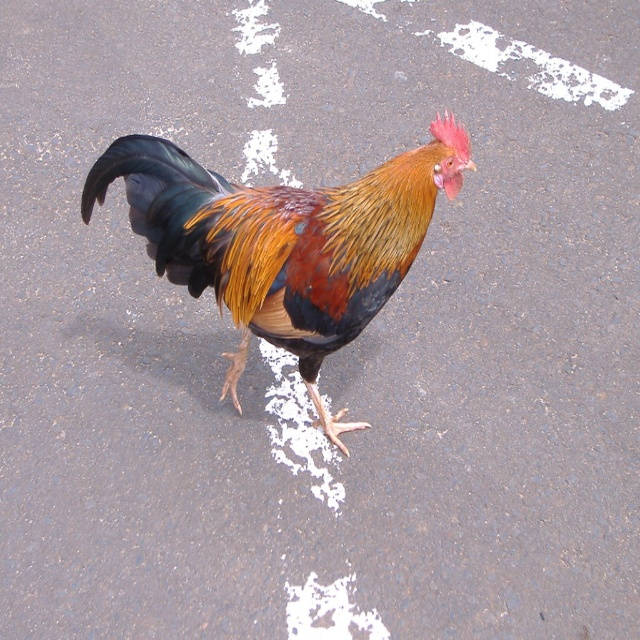Chicken: (76, 112, 477, 463)
